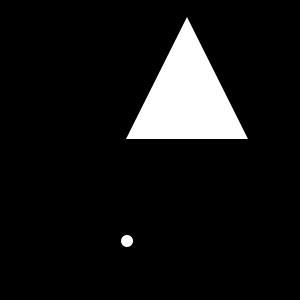rectangle: (121, 235, 133, 247)
triangle: (126, 17, 248, 139)
